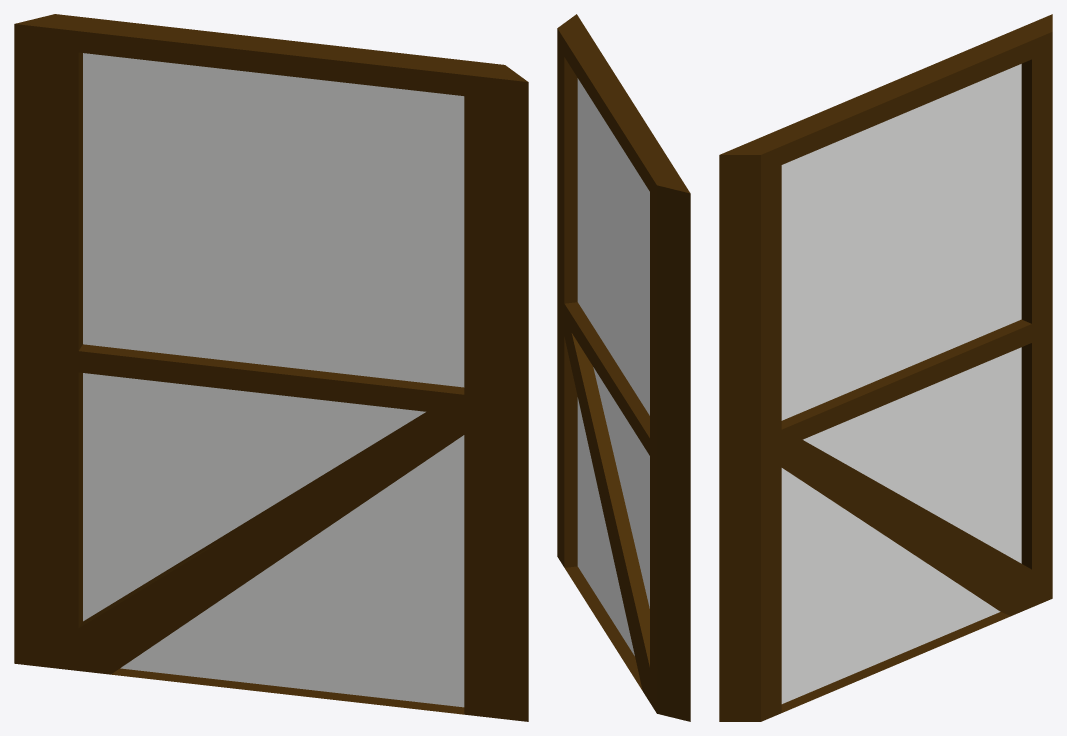
The model's file is obj_wall_11_4.obj.
The picture shows the model from 3 angles, left to right: view 1: azimuth 30°, elevation 25°; view 2: azimuth 150°, elevation 25°; view 3: azimuth 270°, elevation 25°; orthographic projection. The views are drawn at different scales.
Bounding box in the file's own units: 1 × 1.88 × 1.
